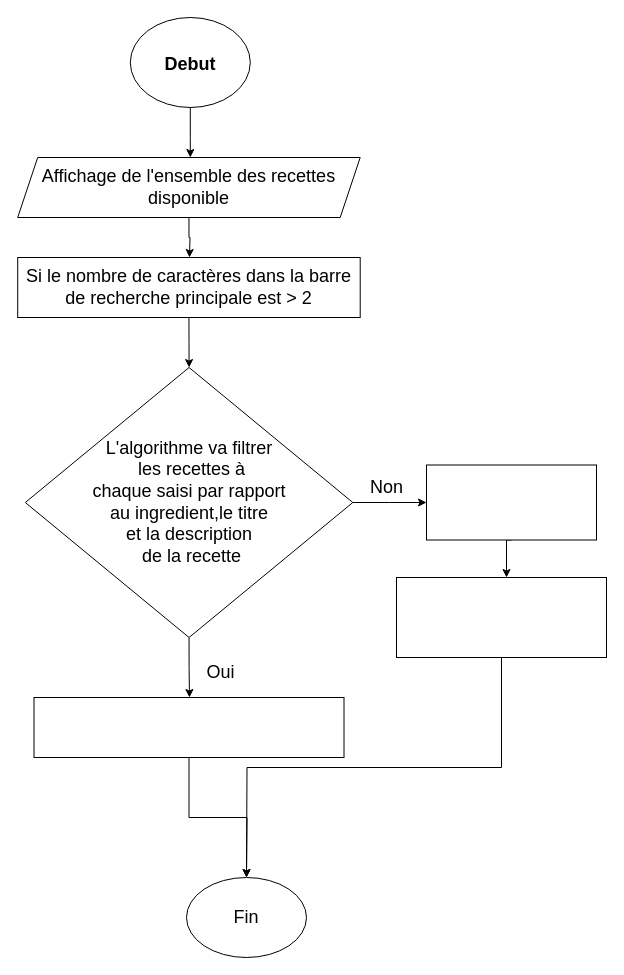
This 624x975 diagram has some shape labels left out. Here are the shapes that lost their labels. From the top down, the centre of each, then its label:
At pixel 511 502: "Aucun résultat".
At pixel 501 617: "Message d'erreur qui indique de recommencer une nouvelle recherche".
At pixel 188 727: "Liste de recettes actualisée par rapport a la saisie dans l'input".
